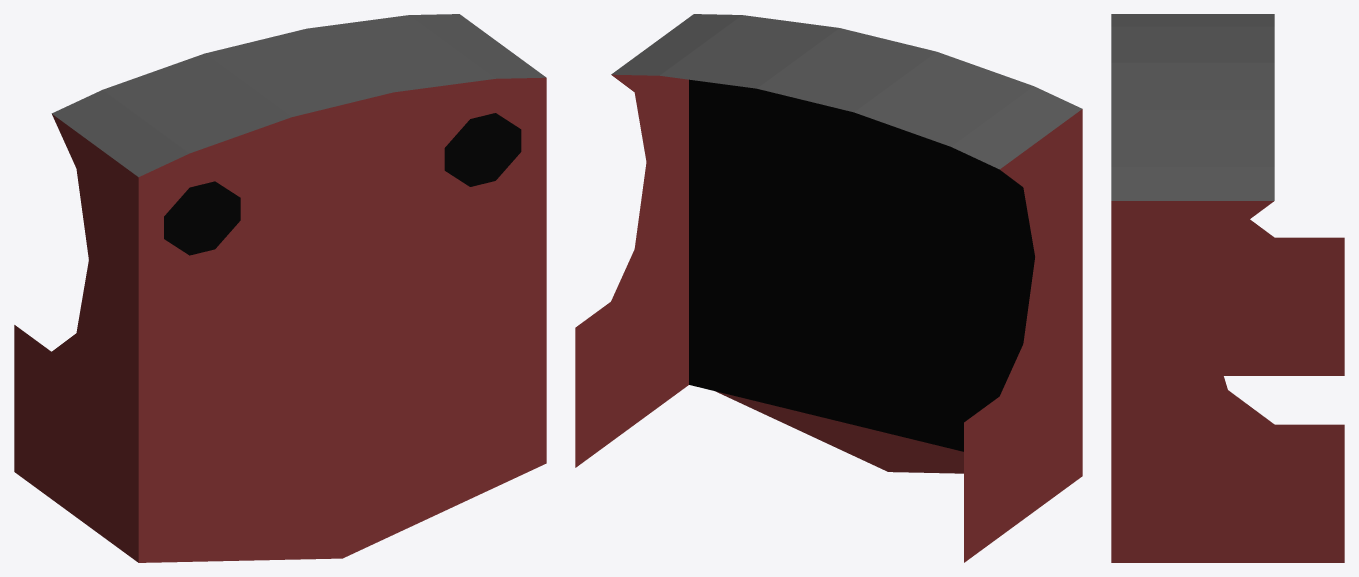
File: mr-open-cab..dae
3 renders of one model, left to right at view 1: azimuth 30°, elevation 25°; view 2: azimuth 150°, elevation 25°; view 3: azimuth 270°, elevation 25°, orthographic. The views are drawn at different scales.
Parts seen in each view (by area): view 1: Plane_008, Plane, Plane_005, Plane_006, Plane_050; view 2: Plane_050, Plane_008, Plane, Plane_005, Plane_006; view 3: Plane, Plane_006, Plane_008, Plane_005.
Part boxes in pixels (<box>): Plane_008: <box>14,105,342,562</box>; Plane: <box>342,77,546,558</box>; Plane_005: <box>52,41,342,177</box>; Plane_006: <box>256,14,545,104</box>; Plane_050: <box>164,113,521,255</box>; Plane_050: <box>689,79,1034,451</box>; Plane_008: <box>888,109,1082,562</box>; Plane: <box>575,74,888,471</box>; Plane_005: <box>805,40,1082,169</box>; Plane_006: <box>611,14,887,100</box>; Plane: <box>1111,201,1344,562</box>; Plane_006: <box>1111,86,1274,200</box>; Plane_008: <box>1204,219,1344,375</box>; Plane_005: <box>1111,14,1274,86</box>.
Size of the model in its own units: 1.6 by 0.8447 by 1.7.
